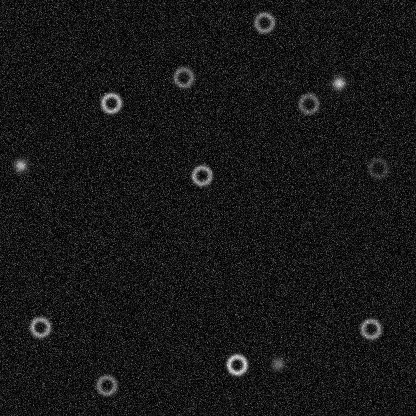Ring: (94, 373, 118, 397), (252, 10, 276, 34), (99, 90, 123, 114), (224, 352, 248, 376), (171, 65, 195, 89), (366, 155, 390, 179), (358, 316, 382, 340), (189, 163, 213, 187), (28, 315, 52, 339), (296, 91, 320, 115)
Spot: (330, 74, 346, 90), (269, 355, 285, 371), (12, 157, 28, 173)
